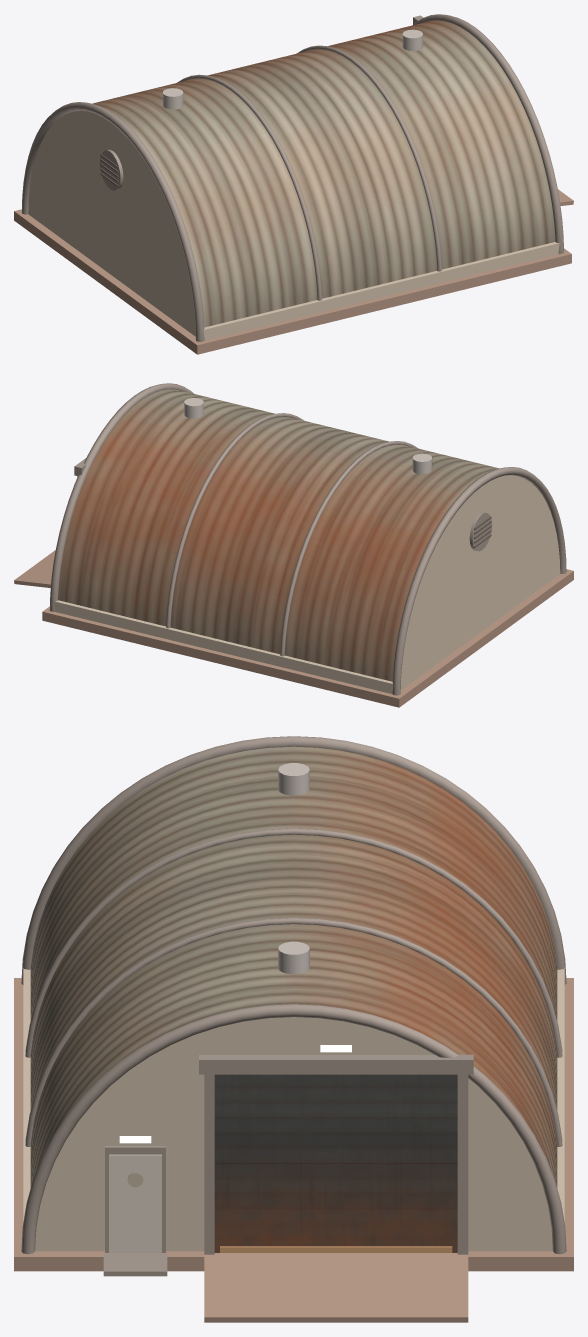
The model's file is I04_arched_hall_3seg.glb.
3 views of the same model, one above another, from view 1: azimuth 30°, elevation 25°; view 2: azimuth 150°, elevation 25°; view 3: azimuth 270°, elevation 25° (orthographic). The views are drawn at different scales.
Visible parts, largest first — view 1: vault, gable_wall, segment_rib, foundation, base_beam, roof_vent; view 2: vault, gable_wall, segment_rib, foundation, base_beam, roof_vent; view 3: vault, large_door, segment_rib, gable_wall, foundation, base_beam, roof_vent.
Boxes of the visible parts, left/top/right/bottom form: vault: left=92, top=20, right=555, bottom=327; gable_wall: left=28, top=110, right=195, bottom=336; segment_rib: left=21, top=14, right=563, bottom=341; foundation: left=14, top=189, right=573, bottom=354; base_beam: left=100, top=154, right=559, bottom=340; roof_vent: left=163, top=29, right=422, bottom=109; vault: left=58, top=389, right=499, bottom=681; gable_wall: left=400, top=475, right=560, bottom=690; segment_rib: left=49, top=383, right=566, bottom=695; foundation: left=14, top=550, right=573, bottom=707; base_beam: left=54, top=516, right=491, bottom=693; roof_vent: left=184, top=398, right=432, bottom=474; vault: left=30, top=746, right=557, bottom=1187; large_door: left=214, top=1074, right=457, bottom=1252; segment_rib: left=21, top=736, right=566, bottom=1276; gable_wall: left=35, top=1017, right=552, bottom=1251; foundation: left=14, top=978, right=573, bottom=1322; base_beam: left=23, top=968, right=564, bottom=1253; roof_vent: left=278, top=763, right=309, bottom=973.
Size of the model in its own units: 14.65 by 5.78 by 10.6.
9 materials, 2 textured.
